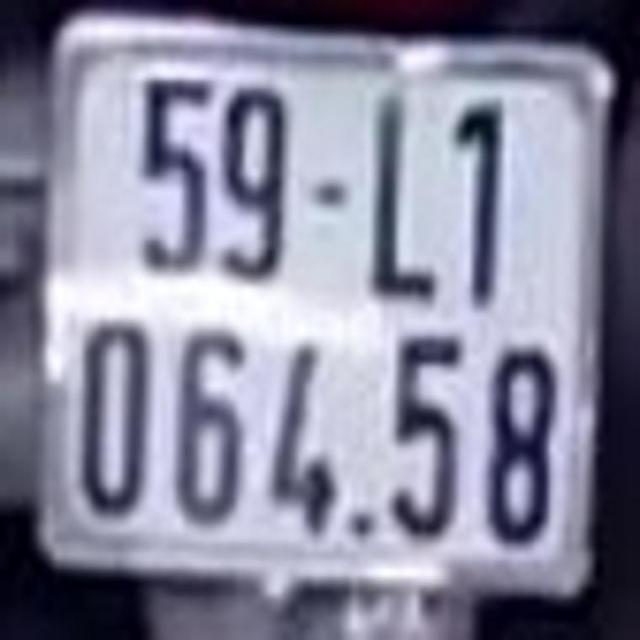0: (82, 320, 145, 512)
1: (456, 104, 516, 299)
4: (284, 335, 332, 522)
5: (139, 84, 212, 271), (395, 338, 461, 533)
6: (176, 321, 237, 528)
8: (499, 344, 549, 545)
9: (224, 90, 286, 274)
L: (370, 100, 441, 294)
